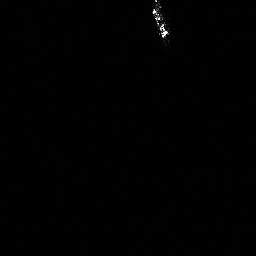ship: (148, 1, 173, 42)
